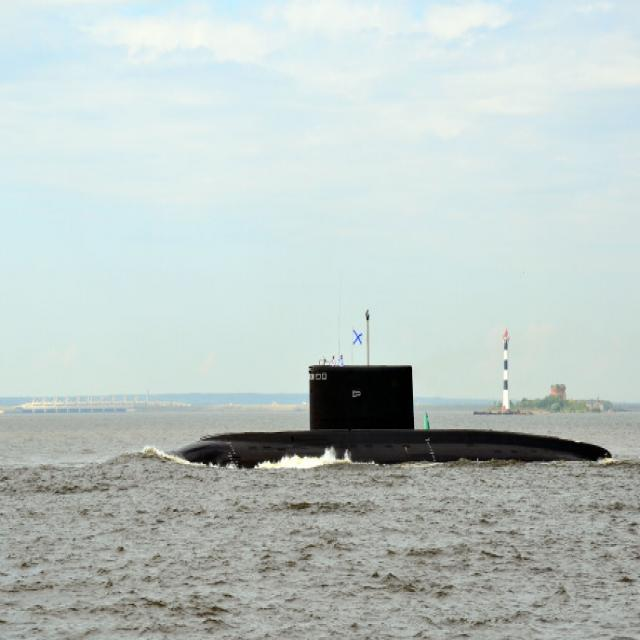submarine: (173, 371, 614, 459)
